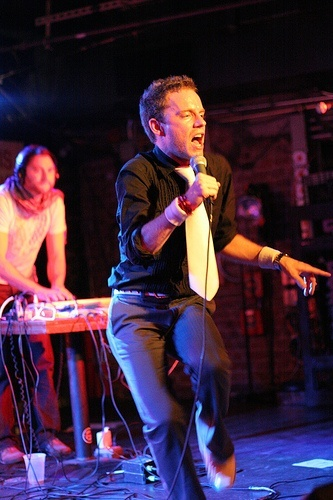head: (139, 75, 208, 159), (11, 143, 62, 202)
person: (106, 78, 320, 494), (0, 141, 70, 469)
